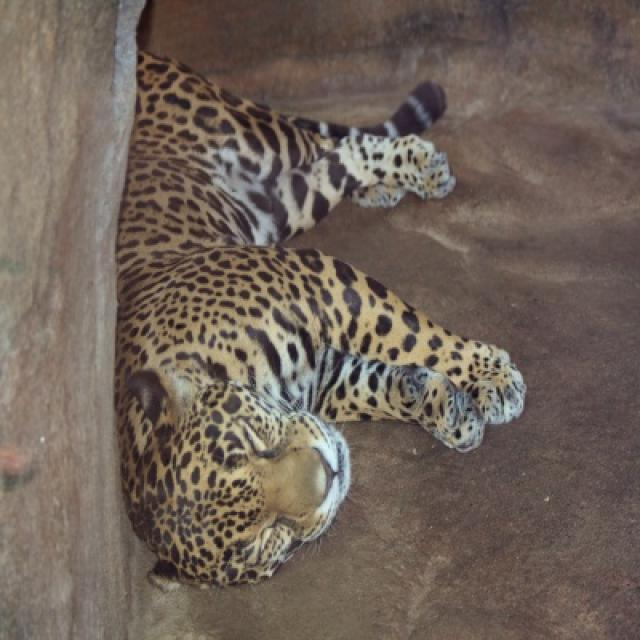Jaguar: (112, 50, 526, 589)
